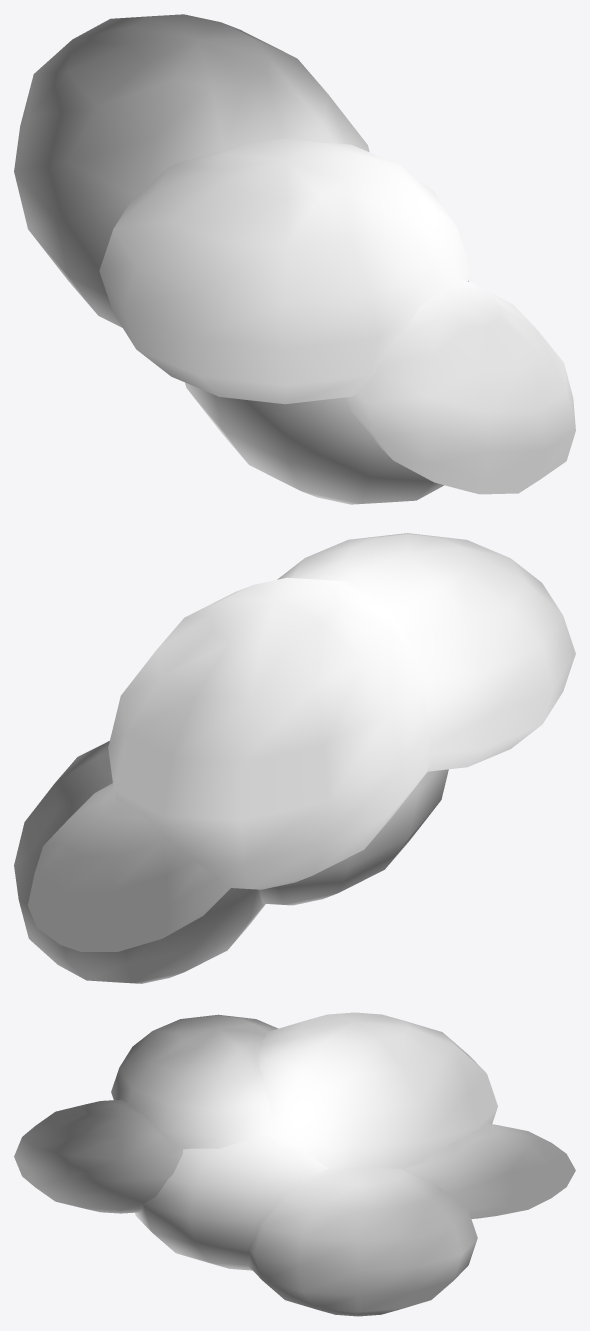
The model's file is M_Cloud_02.fbx.
3 renders of one model, top to bottom at view 1: azimuth 30°, elevation 25°; view 2: azimuth 150°, elevation 25°; view 3: azimuth 270°, elevation 25°, orthographic. The views are drawn at different scales.
Parts seen in each view (by area): view 1: M_Cloud_02; view 2: M_Cloud_02; view 3: M_Cloud_02.
Boxes of the visible parts, x1,y1,x2,y2 form: M_Cloud_02: (14,14,575,504); M_Cloud_02: (14,533,575,983); M_Cloud_02: (14,1012,575,1316).
Size of the model in its own units: 518 by 486 by 987.
1 material, 1 textured.
